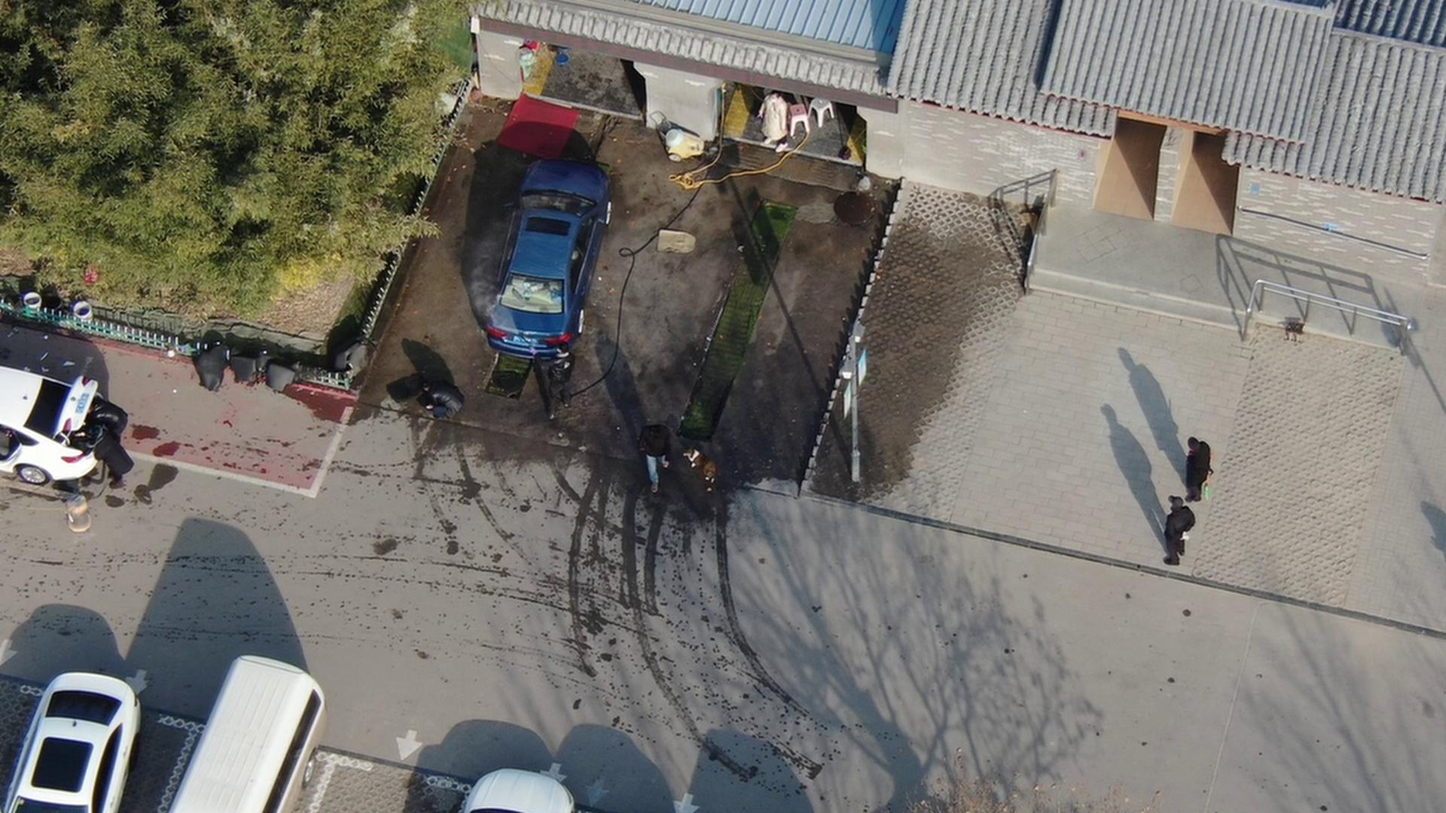human: (523, 331, 579, 425), (1158, 496, 1197, 575), (635, 419, 675, 491), (1180, 432, 1216, 503), (419, 374, 468, 425), (95, 433, 142, 484), (749, 88, 788, 148), (91, 390, 138, 430)
